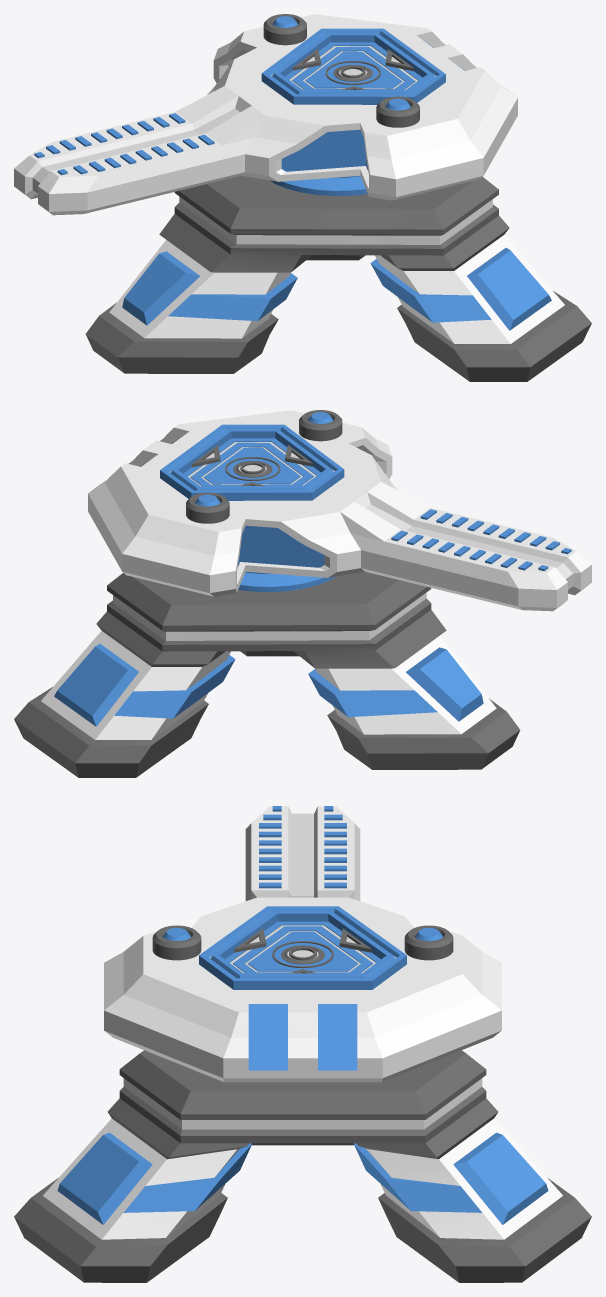
The model's file is PlayerBaseNew.fbx.
The picture shows the model from 3 angles, top to bottom: view 1: azimuth 30°, elevation 25°; view 2: azimuth 150°, elevation 25°; view 3: azimuth 270°, elevation 25°; orthographic projection. The views are drawn at different scales.
Visible parts, largest first — view 1: Head, Body, Feet, BodyAccessories, Triangle, HeadCiliners, GunAccessories, Rotator, triangleCenter, TriangleTriangles; view 2: Head, Body, Feet, BodyAccessories, Triangle, HeadCiliners, GunAccessories, Rotator, triangleCenter, TriangleTriangles; view 3: Head, Body, Feet, BodyAccessories, Triangle, HeadCiliners, GunAccessories, triangleCenter, TriangleTriangles.
Part boxes in pixels (x1=…): Head: x1=14, y1=14, x2=517, y2=215; Body: x1=109, y1=175, x2=564, y2=343; Feet: x1=85, y1=255, x2=591, y2=381; BodyAccessories: x1=122, y1=247, x2=551, y2=330; Triangle: x1=261, y1=28, x2=445, y2=104; HeadCiliners: x1=263, y1=14, x2=419, y2=127; GunAccessories: x1=34, y1=113, x2=214, y2=175; Rotator: x1=270, y1=176, x2=367, y2=195; triangleCenter: x1=325, y1=61, x2=380, y2=84; TriangleTriangles: x1=292, y1=49, x2=414, y2=89; Head: x1=88, y1=410, x2=591, y2=611; Body: x1=41, y1=571, x2=496, y2=739; Feet: x1=14, y1=651, x2=520, y2=777; BodyAccessories: x1=54, y1=643, x2=483, y2=726; Triangle: x1=160, y1=424, x2=344, y2=500; HeadCiliners: x1=186, y1=410, x2=342, y2=523; GunAccessories: x1=391, y1=509, x2=571, y2=571; Rotator: x1=238, y1=572, x2=335, y2=591; triangleCenter: x1=225, y1=457, x2=280, y2=480; TriangleTriangles: x1=191, y1=445, x2=313, y2=485; Head: x1=104, y1=806, x2=501, y2=1082; Body: x1=43, y1=1050, x2=562, y2=1239; Feet: x1=14, y1=1143, x2=591, y2=1282; BodyAccessories: x1=57, y1=1132, x2=548, y2=1224; Triangle: x1=199, y1=906, x2=406, y2=989; HeadCiliners: x1=152, y1=925, x2=453, y2=960; GunAccessories: x1=259, y1=806, x2=346, y2=888; triangleCenter: x1=272, y1=941, x2=333, y2=968; TriangleTriangles: x1=234, y1=928, x2=371, y2=973.
Size of the model in its own units: 299 by 151 by 290.
